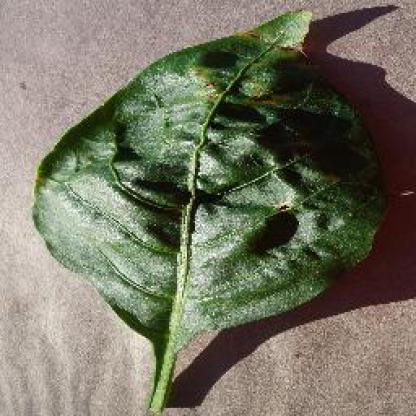bad leaf: (21, 1, 367, 414)
